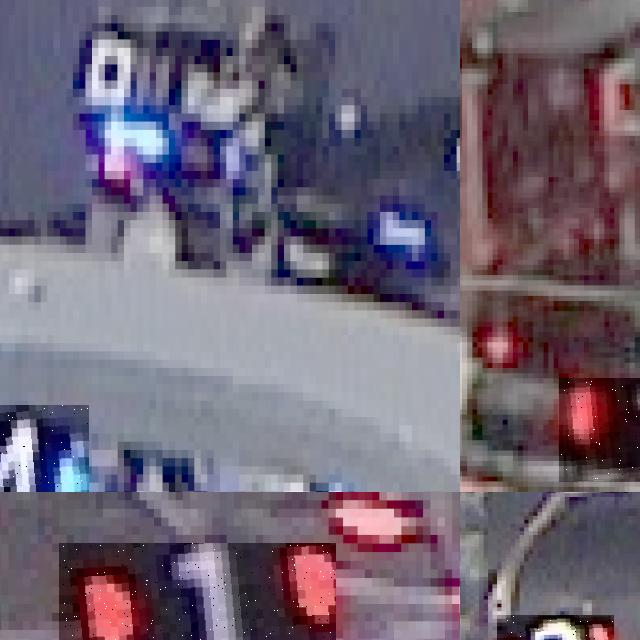B4: (0, 405, 89, 492)
R1: (59, 543, 335, 640), (558, 378, 640, 481)
R2: (497, 615, 614, 640)
